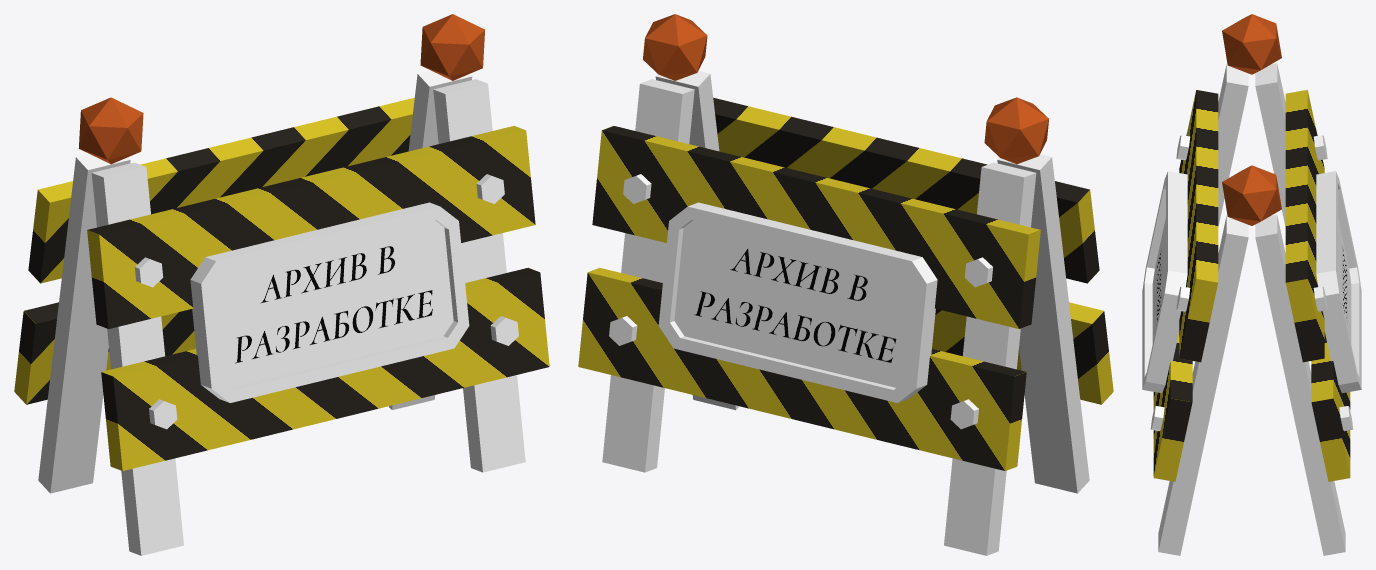
Rendered from fence.glb.
3 views of the same model, side by side, from view 1: azimuth 30°, elevation 25°; view 2: azimuth 150°, elevation 25°; view 3: azimuth 270°, elevation 25° (orthographic). The views are drawn at different scales.
Parts seen in each view (by area): view 1: Cube, Cube.001, Cube.002, Cube.003, Cube.005, Cube.007, Cube.006, Icosphere.001, Icosphere, Cylinder, Cylinder.001, Cylinder.003 (+1 smaller); view 2: Cube.004, Cube.005, Cube.006, Cube.007, Cube.001, Cube.003, Cube.002, Icosphere.001, Icosphere, Cylinder.006, Cylinder.005, Cylinder.007 (+1 smaller); view 3: Cube.007, Cube.003, Cube.001, Cube.005, Cube, Cube.004, Cube.002, Cube.006, Icosphere, Icosphere.001.
Boxes of the visible parts, x1,y1,x2,y2 form: Cube: (190,202,469,402); Cube.001: (87,126,535,328); Cube.002: (101,267,549,470); Cube.003: (91,79,525,555); Cube.005: (28,97,414,283); Cube.007: (38,70,472,493); Cube.006: (14,302,195,404); Icosphere.001: (79,97,143,164); Icosphere: (420,14,484,80); Cylinder: (476,174,504,203); Cylinder.001: (490,316,518,345); Cylinder.003: (149,399,177,429); Cube.004: (658,202,937,402); Cube.005: (592,126,1040,328); Cube.006: (578,267,1026,470); Cube.007: (602,79,1036,555); Cube.001: (713,97,1099,283); Cube.003: (655,71,1089,493); Cube.002: (932,302,1113,404); Icosphere.001: (984,97,1048,164); Icosphere: (643,14,707,80); Cylinder.006: (623,174,651,203); Cylinder.005: (950,399,978,429); Cylinder.007: (609,316,637,345); Cube.007: (1255,63,1345,555); Cube.003: (1158,63,1248,555); Cube.001: (1179,90,1218,362); Cube.005: (1285,90,1324,362); Cube: (1142,171,1187,393); Cube.004: (1316,171,1361,393); Cube.002: (1153,332,1192,481); Cube.006: (1311,332,1350,481); Icosphere: (1222,165,1281,225); Icosphere.001: (1222,14,1281,74).
Size of the model in its own units: 10 by 9.4 by 4.9.
5 materials, 2 textured.
